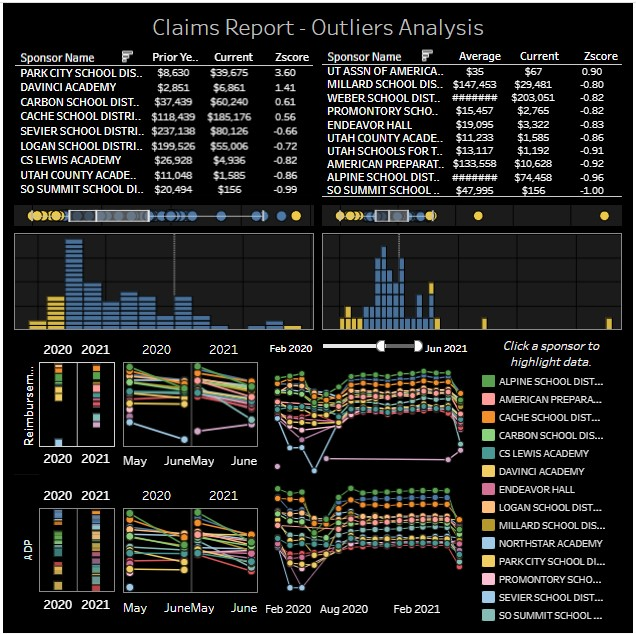

What the dashboard file says about the page in this screenshot:
{"tool":"tableau","page":{"name":"Outlier Trends","canvas":[1000,500],"ordinal":2},"visuals":[{"type":"worksheet","title":"Sheet 9 (3)","mark":"Automatic","rows":["List By Name.x (copy)_692991420351942658"],"cols":["Claim Date.x","Claim Date.x"],"box":[9,9,982,136]},{"type":"filter","title":"Sheet 9 (4)","param":"[federated.0en58s41shyk6h1eqgkpd18q43y0].[tmn:Claim Date.x:qk]","box":[9,145,516,42.4]},{"type":"worksheet","title":"Sheet 1","mark":"Automatic","rows":["List By Name.x (copy)_692991420351942658"],"box":[525,145,466,172.7]},{"type":"worksheet","title":"Sheet 9 (4)","mark":"Line","rows":["Total Reimb","Total Reimb","Ada","Ada","Days","Days","Meals","Meals"],"cols":["Claim Date.x"],"box":[9,187.4,516,303.6]},{"type":"worksheet","title":"Sheet 2","mark":"Automatic","rows":["List By Name.x (copy)_692991420351942658"],"box":[525,317.7,466,173.3]}]}

Visuals, with their boxes on the page's 1000x500 design canvas (x1, y1, x2, y2). These are canvas units, not pixel positions in the 636x634 screenshot, which may show the page scaled, cropped or inside an application window:
"Sheet 9 (3)" worksheet: l=9, t=9, r=991, b=145
"Sheet 9 (4)" filter: l=9, t=145, r=525, b=187
"Sheet 1" worksheet: l=525, t=145, r=991, b=318
"Sheet 9 (4)" worksheet (Line marks): l=9, t=187, r=525, b=491
"Sheet 2" worksheet: l=525, t=318, r=991, b=491
